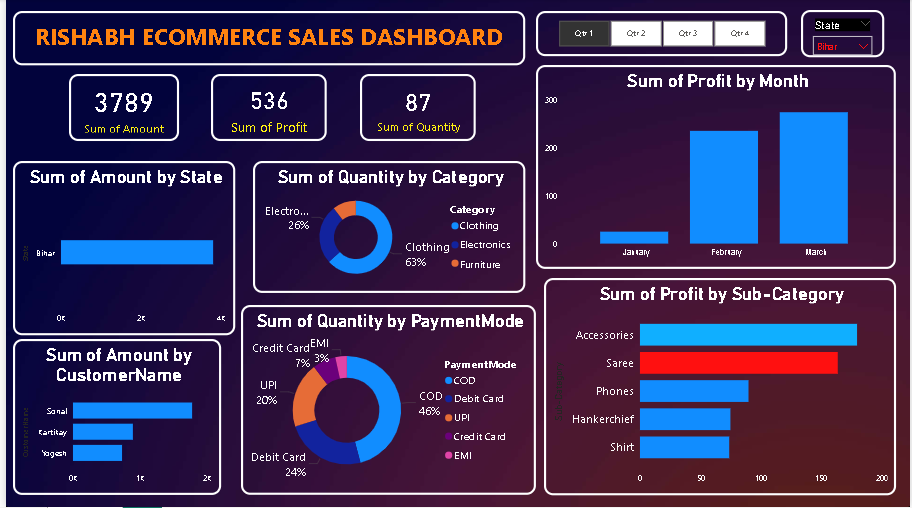

What the dashboard file says about the page in this screenshot:
{"tool":"powerbi","page":{"name":"Page 1","canvas":[1280,720],"ordinal":0},"visuals":[{"type":"textbox","box":[9.9,17,725.7,76.5],"z":0},{"type":"columnChart","fields":{"Y":["Details.Profit"],"Category":["Orders.Order Date.Variation.Date Hierarchy.Month"]},"box":[751.2,93.5,510.2,289.1],"z":1000},{"type":"barChart","fields":{"Category":["Details.Sub-Category"],"Y":["Details.Profit"]},"box":[762.5,395.4,498.9,307.6],"z":2000},{"type":"donutChart","fields":{"Category":["Details.Category"],"Y":["Details.Quantity"]},"box":[350.1,229.6,385.5,187.1],"z":3000},{"type":"donutChart","fields":{"Y":["Details.Quantity"],"Category":["Details.PaymentMode"]},"box":[333.1,433.7,418.1,269.3],"z":4000},{"type":"card","fields":{"Values":["Details.Amount"]},"box":[89.3,106.3,155.9,95],"z":5000},{"type":"card","fields":{"Values":["Details.Profit"]},"box":[290.6,106.3,164.4,95],"z":6000},{"type":"card","fields":{"Values":["Details.Quantity"]},"box":[501.7,106.3,164.4,95],"z":7000},{"type":"barChart","fields":{"Category":["Orders.State"],"Y":["Details.Amount"]},"box":[9.9,229.6,314.6,246.6],"z":8000},{"type":"barChart","fields":{"Category":["Orders.CustomerName"],"Y":["Details.Amount"]},"box":[9.9,481.9,294.8,221.1],"z":9000},{"type":"slicer","fields":{"Values":["Orders.Order Date.Variation.Date Hierarchy.Quarter"]},"box":[751.2,17,355.7,63.8],"z":10000},{"type":"slicer","fields":{"Values":["Orders.State"]},"box":[1126.8,15.6,117.6,66.6],"z":11000}]}

Visuals, with their boxes in screenshot pixels (x1, y1, x2, y2), scaled from the page's 1280x720 canvas onto the 912x508 screenshot:
textbox: select_region(7, 12, 524, 66)
columnChart - Details.Profit x Orders.Order Date.Variation.Date Hierarchy.Month: select_region(535, 66, 899, 270)
barChart - Details.Sub-Category x Details.Profit: select_region(543, 279, 899, 496)
donutChart - Details.Category x Details.Quantity: select_region(249, 162, 524, 294)
donutChart - Details.Quantity x Details.PaymentMode: select_region(237, 306, 535, 496)
card - Details.Amount: select_region(64, 75, 175, 142)
card - Details.Profit: select_region(207, 75, 324, 142)
card - Details.Quantity: select_region(357, 75, 475, 142)
barChart - Orders.State x Details.Amount: select_region(7, 162, 231, 336)
barChart - Orders.CustomerName x Details.Amount: select_region(7, 340, 217, 496)
slicer - Orders.Order Date.Variation.Date Hierarchy.Quarter: select_region(535, 12, 789, 57)
slicer - Orders.State: select_region(803, 11, 887, 58)
